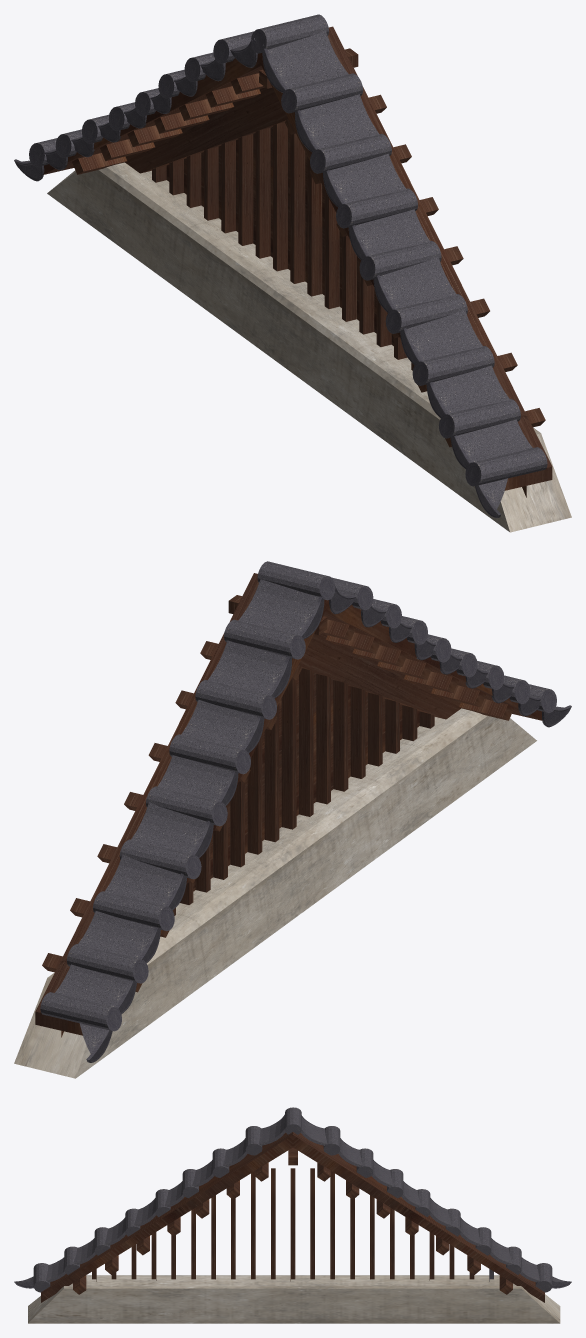
Rendered from SM_R_RoofOuter_24.fbx.
3 views of the same model, one above another, from view 1: azimuth 30°, elevation 25°; view 2: azimuth 150°, elevation 25°; view 3: azimuth 270°, elevation 25° (orthographic). The views are drawn at different scales.
Visible parts, largest first — view 1: SM_R_RoofOuter_24; view 2: SM_R_RoofOuter_24; view 3: SM_R_RoofOuter_24.
Part boxes in pixels (x1,y1,x2,y2): SM_R_RoofOuter_24: [14, 14, 571, 532]; SM_R_RoofOuter_24: [14, 561, 571, 1078]; SM_R_RoofOuter_24: [14, 1107, 571, 1323].
Bounding box in the file's own units: 102 × 835 × 320.
4 materials, 4 textured.
